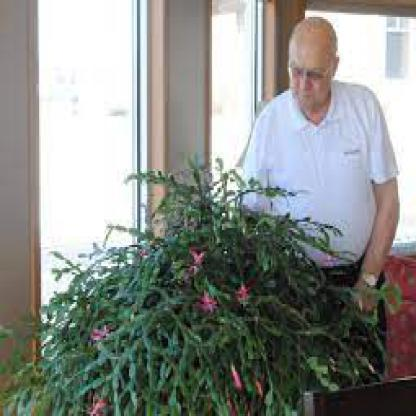Aglonema: (12, 87, 399, 333)
